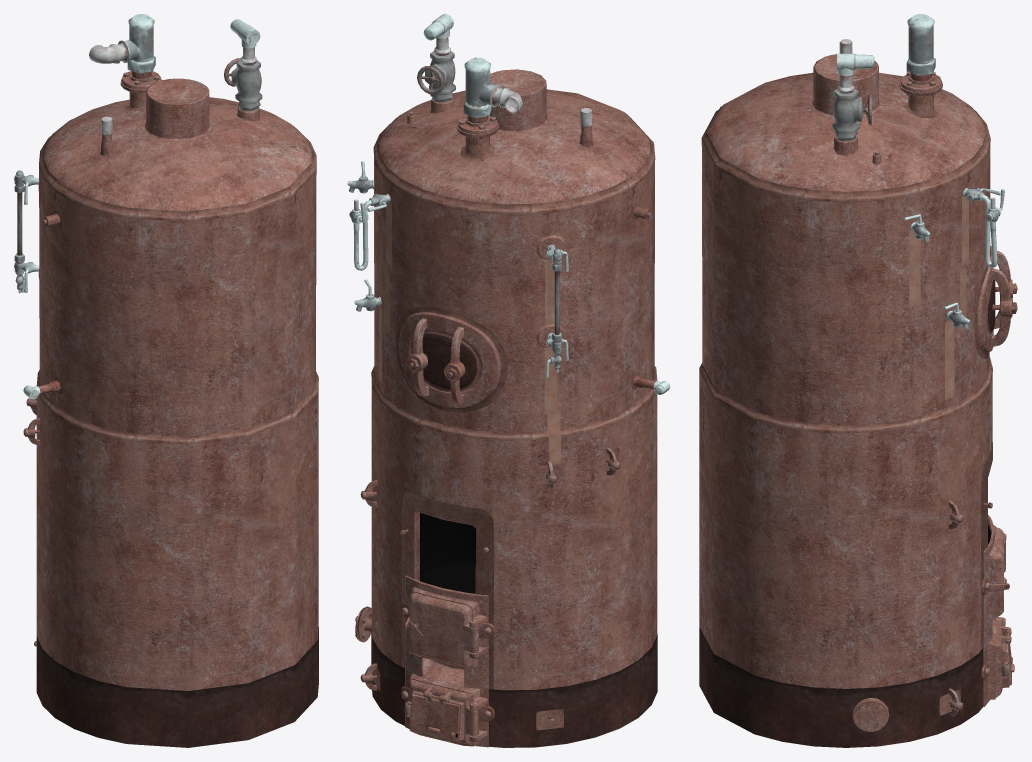
The model's file is Boiler.FBX.
3 renders of one model, left to right at view 1: azimuth 30°, elevation 25°; view 2: azimuth 150°, elevation 25°; view 3: azimuth 270°, elevation 25°, orthographic. The views are drawn at different scales.
Parts seen in each view (by area): view 1: Boiler, Boiler_Decals, Boiler_Objects; view 2: Boiler, Boiler_Decals, Boiler_Objects; view 3: Boiler, Boiler_Decals, Boiler_Objects.
Part boxes in pixels (<box>): Boiler: <box>35,71,318,690</box>; Boiler_Decals: <box>36,105,318,747</box>; Boiler_Objects: <box>14,14,262,646</box>; Boiler: <box>355,69,657,747</box>; Boiler_Decals: <box>371,114,657,747</box>; Boiler_Objects: <box>347,14,670,737</box>; Boiler: <box>699,54,1016,732</box>; Boiler_Decals: <box>699,102,1008,747</box>; Boiler_Objects: <box>832,14,1017,728</box>.
Size of the model in its own units: 1.19 by 1.08 by 2.5.
3 materials, 3 textured.
